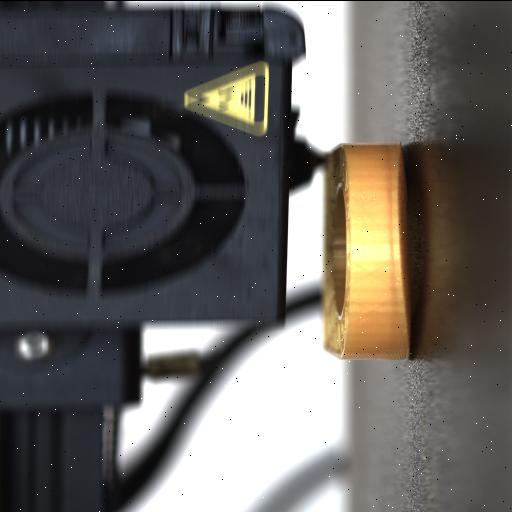warp: (390, 142, 414, 358)
